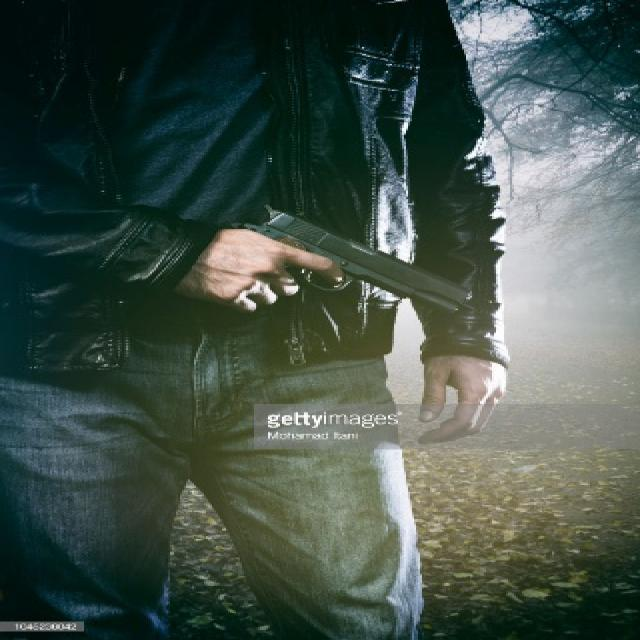weapon: (244, 198, 476, 324)
